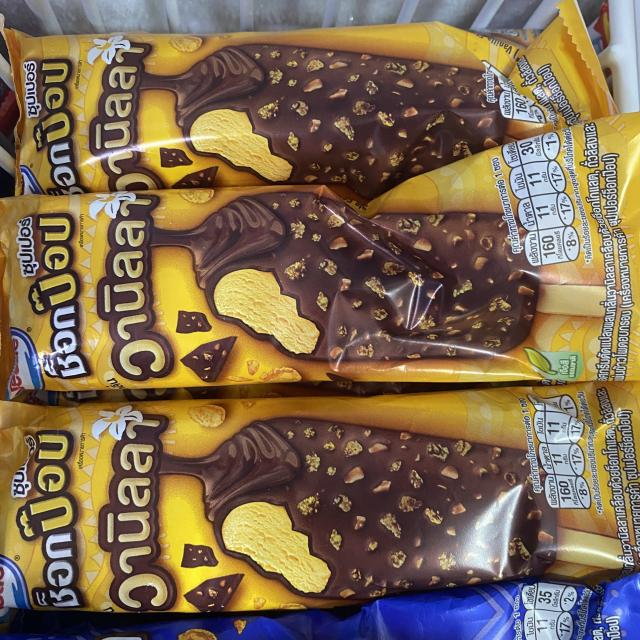plastik: (0, 114, 640, 398), (0, 381, 640, 612), (4, 0, 616, 201)
